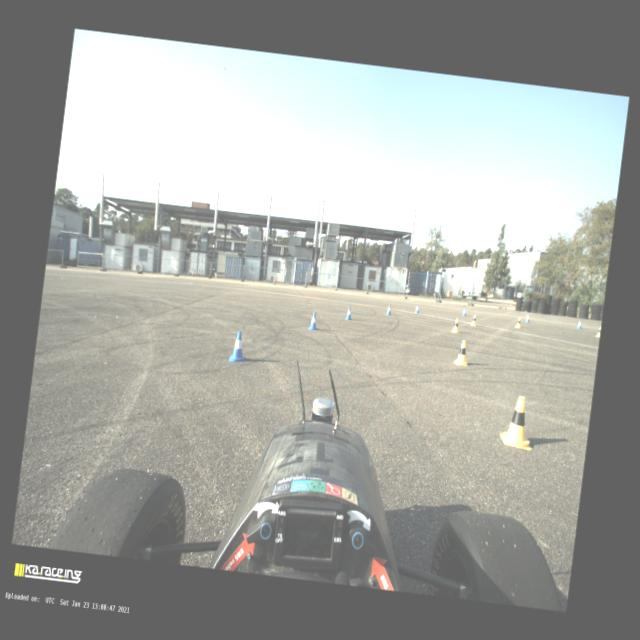blue_cone: (228, 330, 248, 362), (308, 311, 318, 330), (344, 306, 352, 320), (386, 303, 392, 315), (576, 319, 582, 329), (524, 314, 530, 322), (414, 304, 419, 313), (461, 308, 466, 316)
yellow_cone: (499, 394, 536, 450), (454, 340, 469, 366), (450, 318, 460, 332), (469, 314, 476, 326), (514, 316, 520, 328), (594, 326, 600, 337)
